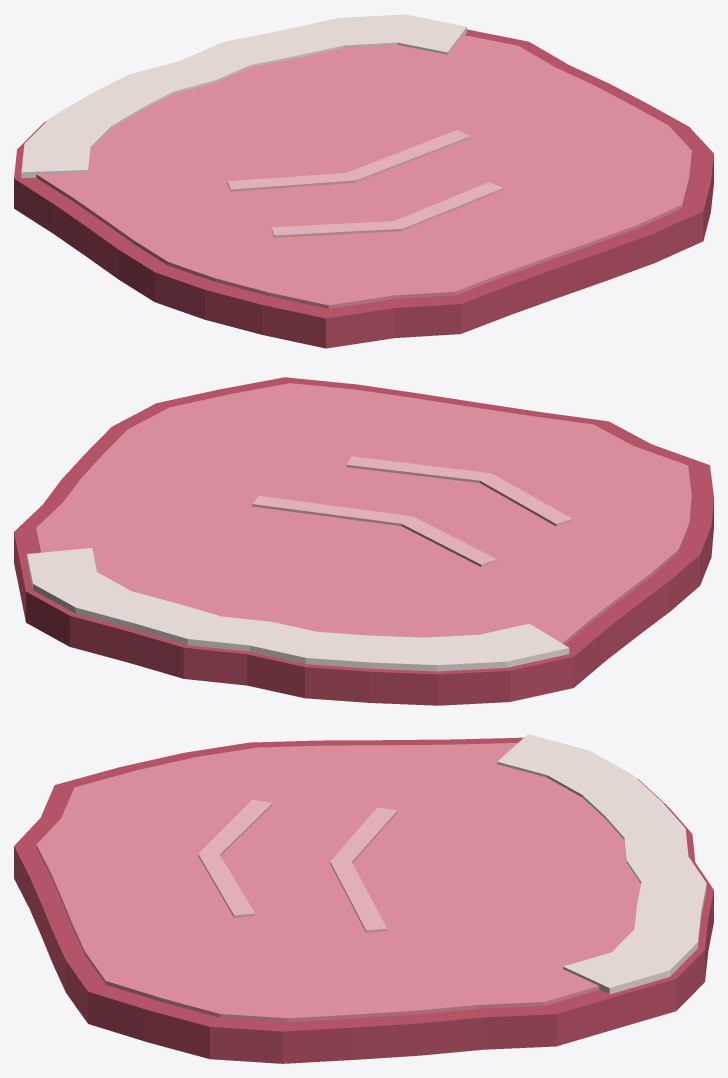
The model's file is Ham.fbx.
3 renders of one model, top to bottom at view 1: azimuth 30°, elevation 25°; view 2: azimuth 150°, elevation 25°; view 3: azimuth 270°, elevation 25°, orthographic. The views are drawn at different scales.
Parts seen in each view (by area): view 1: Top_F59AAA, Top_C8566C, Top_FFF2EC, Top_FFC2CC; view 2: Top_F59AAA, Top_C8566C, Top_FFF2EC, Top_FFC2CC; view 3: Top_F59AAA, Top_C8566C, Top_FFF2EC, Top_FFC2CC.
Part boxes in pixels (bbox=[...]): Top_F59AAA: bbox=[36, 35, 691, 308]; Top_C8566C: bbox=[14, 29, 713, 348]; Top_FFF2EC: bbox=[21, 14, 466, 178]; Top_FFC2CC: bbox=[227, 130, 503, 237]; Top_F59AAA: bbox=[36, 383, 691, 644]; Top_C8566C: bbox=[14, 377, 713, 705]; Top_FFF2EC: bbox=[27, 548, 569, 671]; Top_FFC2CC: bbox=[252, 456, 572, 566]; Top_F59AAA: bbox=[36, 743, 640, 1022]; Top_C8566C: bbox=[14, 737, 713, 1063]; Top_FFF2EC: bbox=[497, 734, 706, 994]; Top_FFC2CC: bbox=[198, 799, 397, 932].
Size of the model in its own units: 1.99 by 0.1223 by 2.
